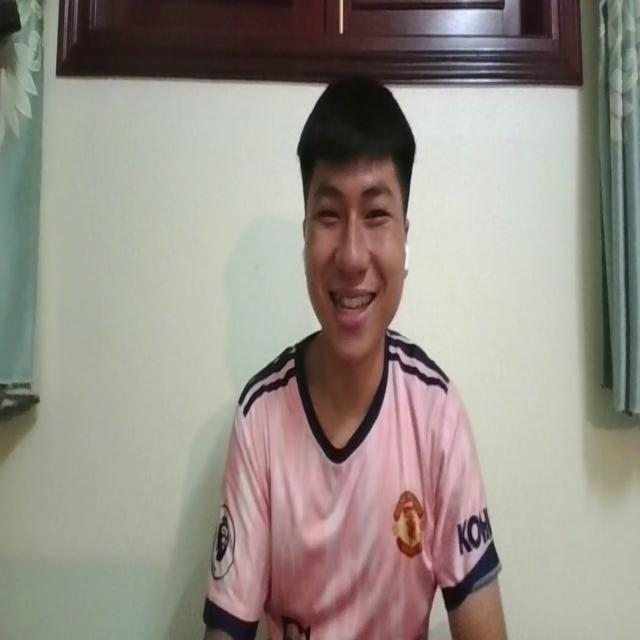student: (205, 66, 503, 640)
